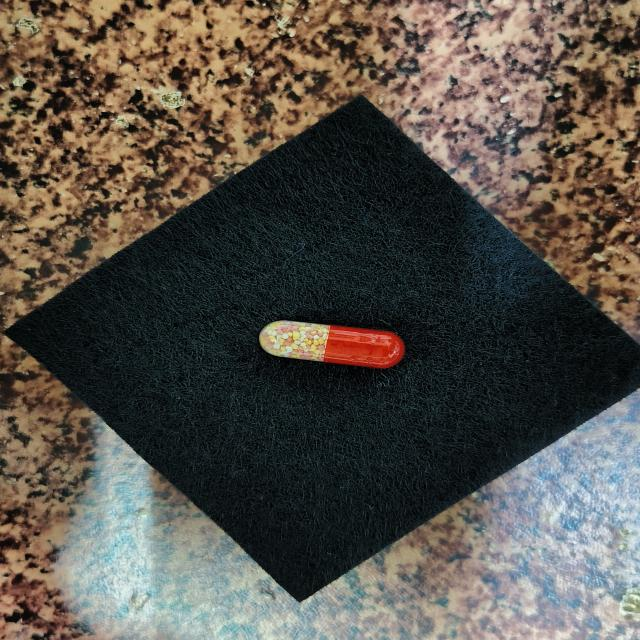Intact Capsule: (259, 320, 405, 368)
